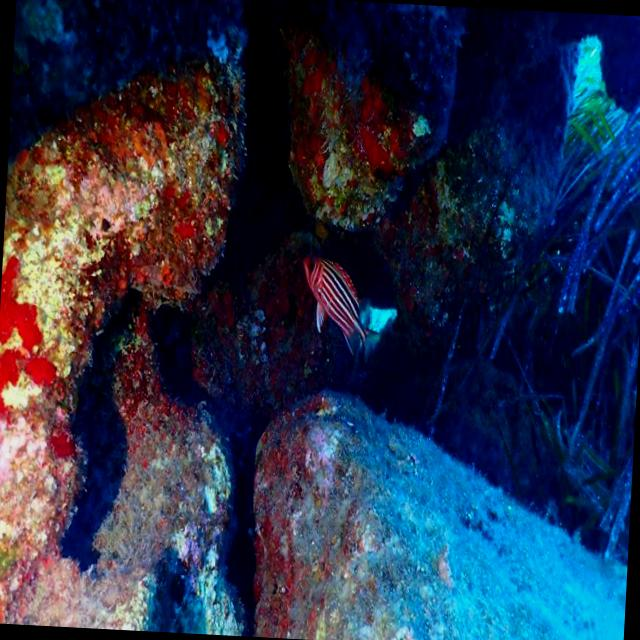Asker Baligi: (295, 251, 373, 364)
